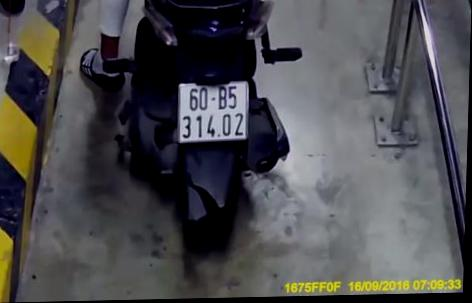License_Plate: (165, 77, 259, 151)
